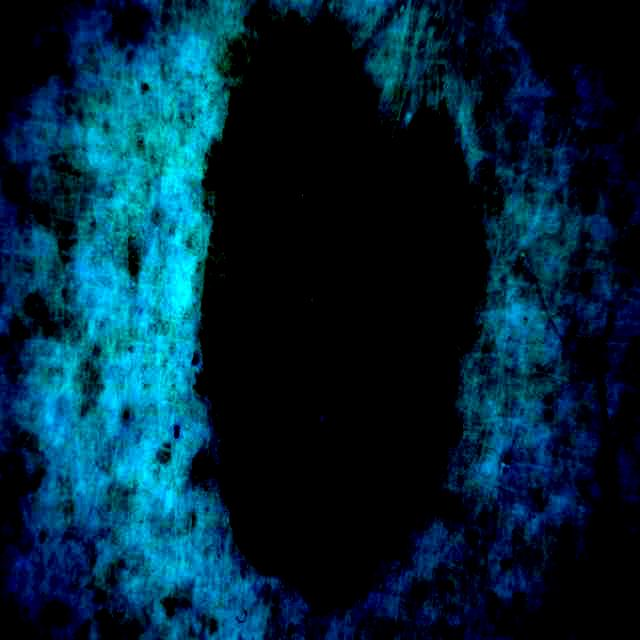BKL: (203, 18, 481, 605)
